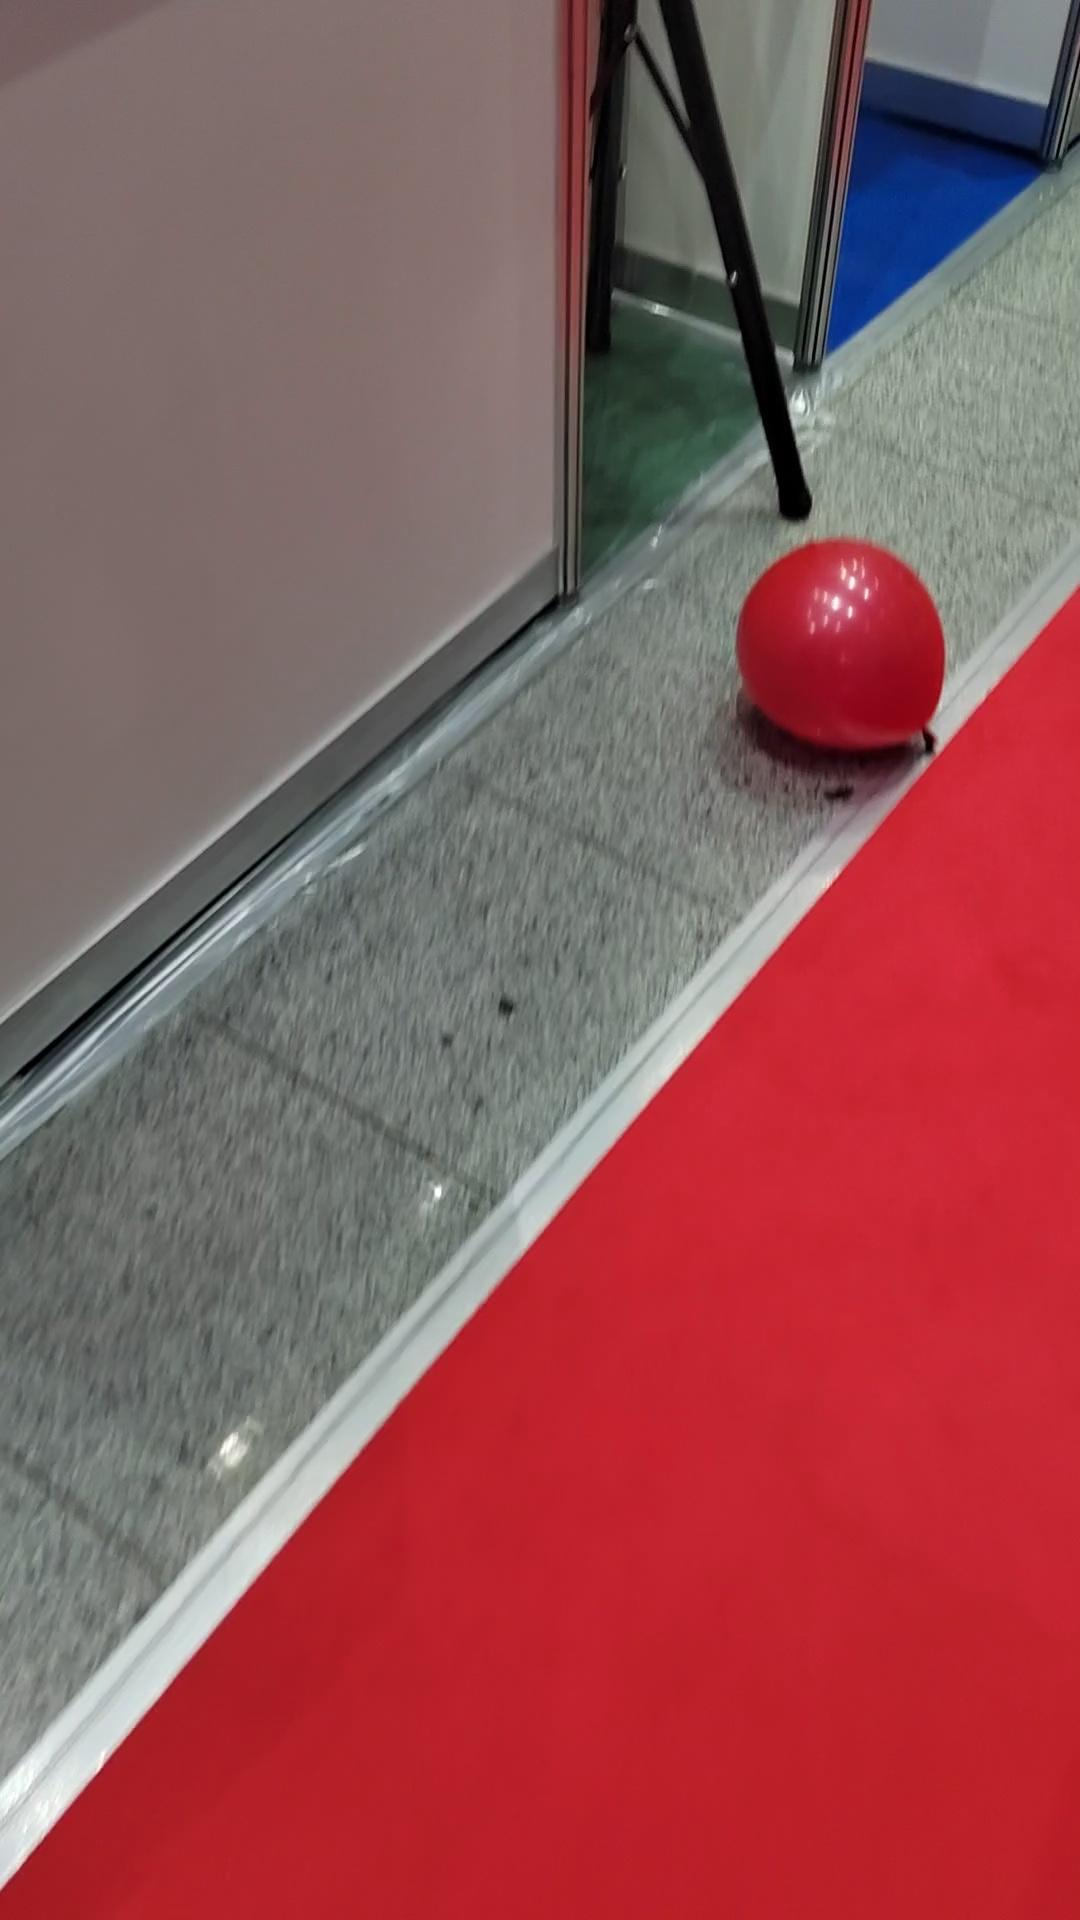red: (727, 530, 944, 758)
